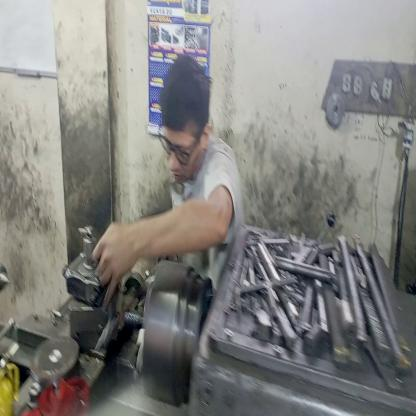lentes: (154, 119, 204, 168)
